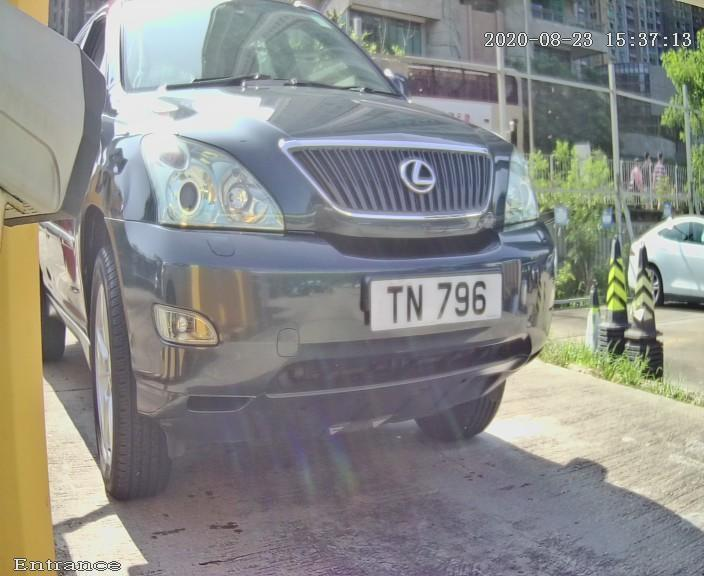Car: (29, 3, 601, 507)
License Plate: (356, 260, 513, 345)
